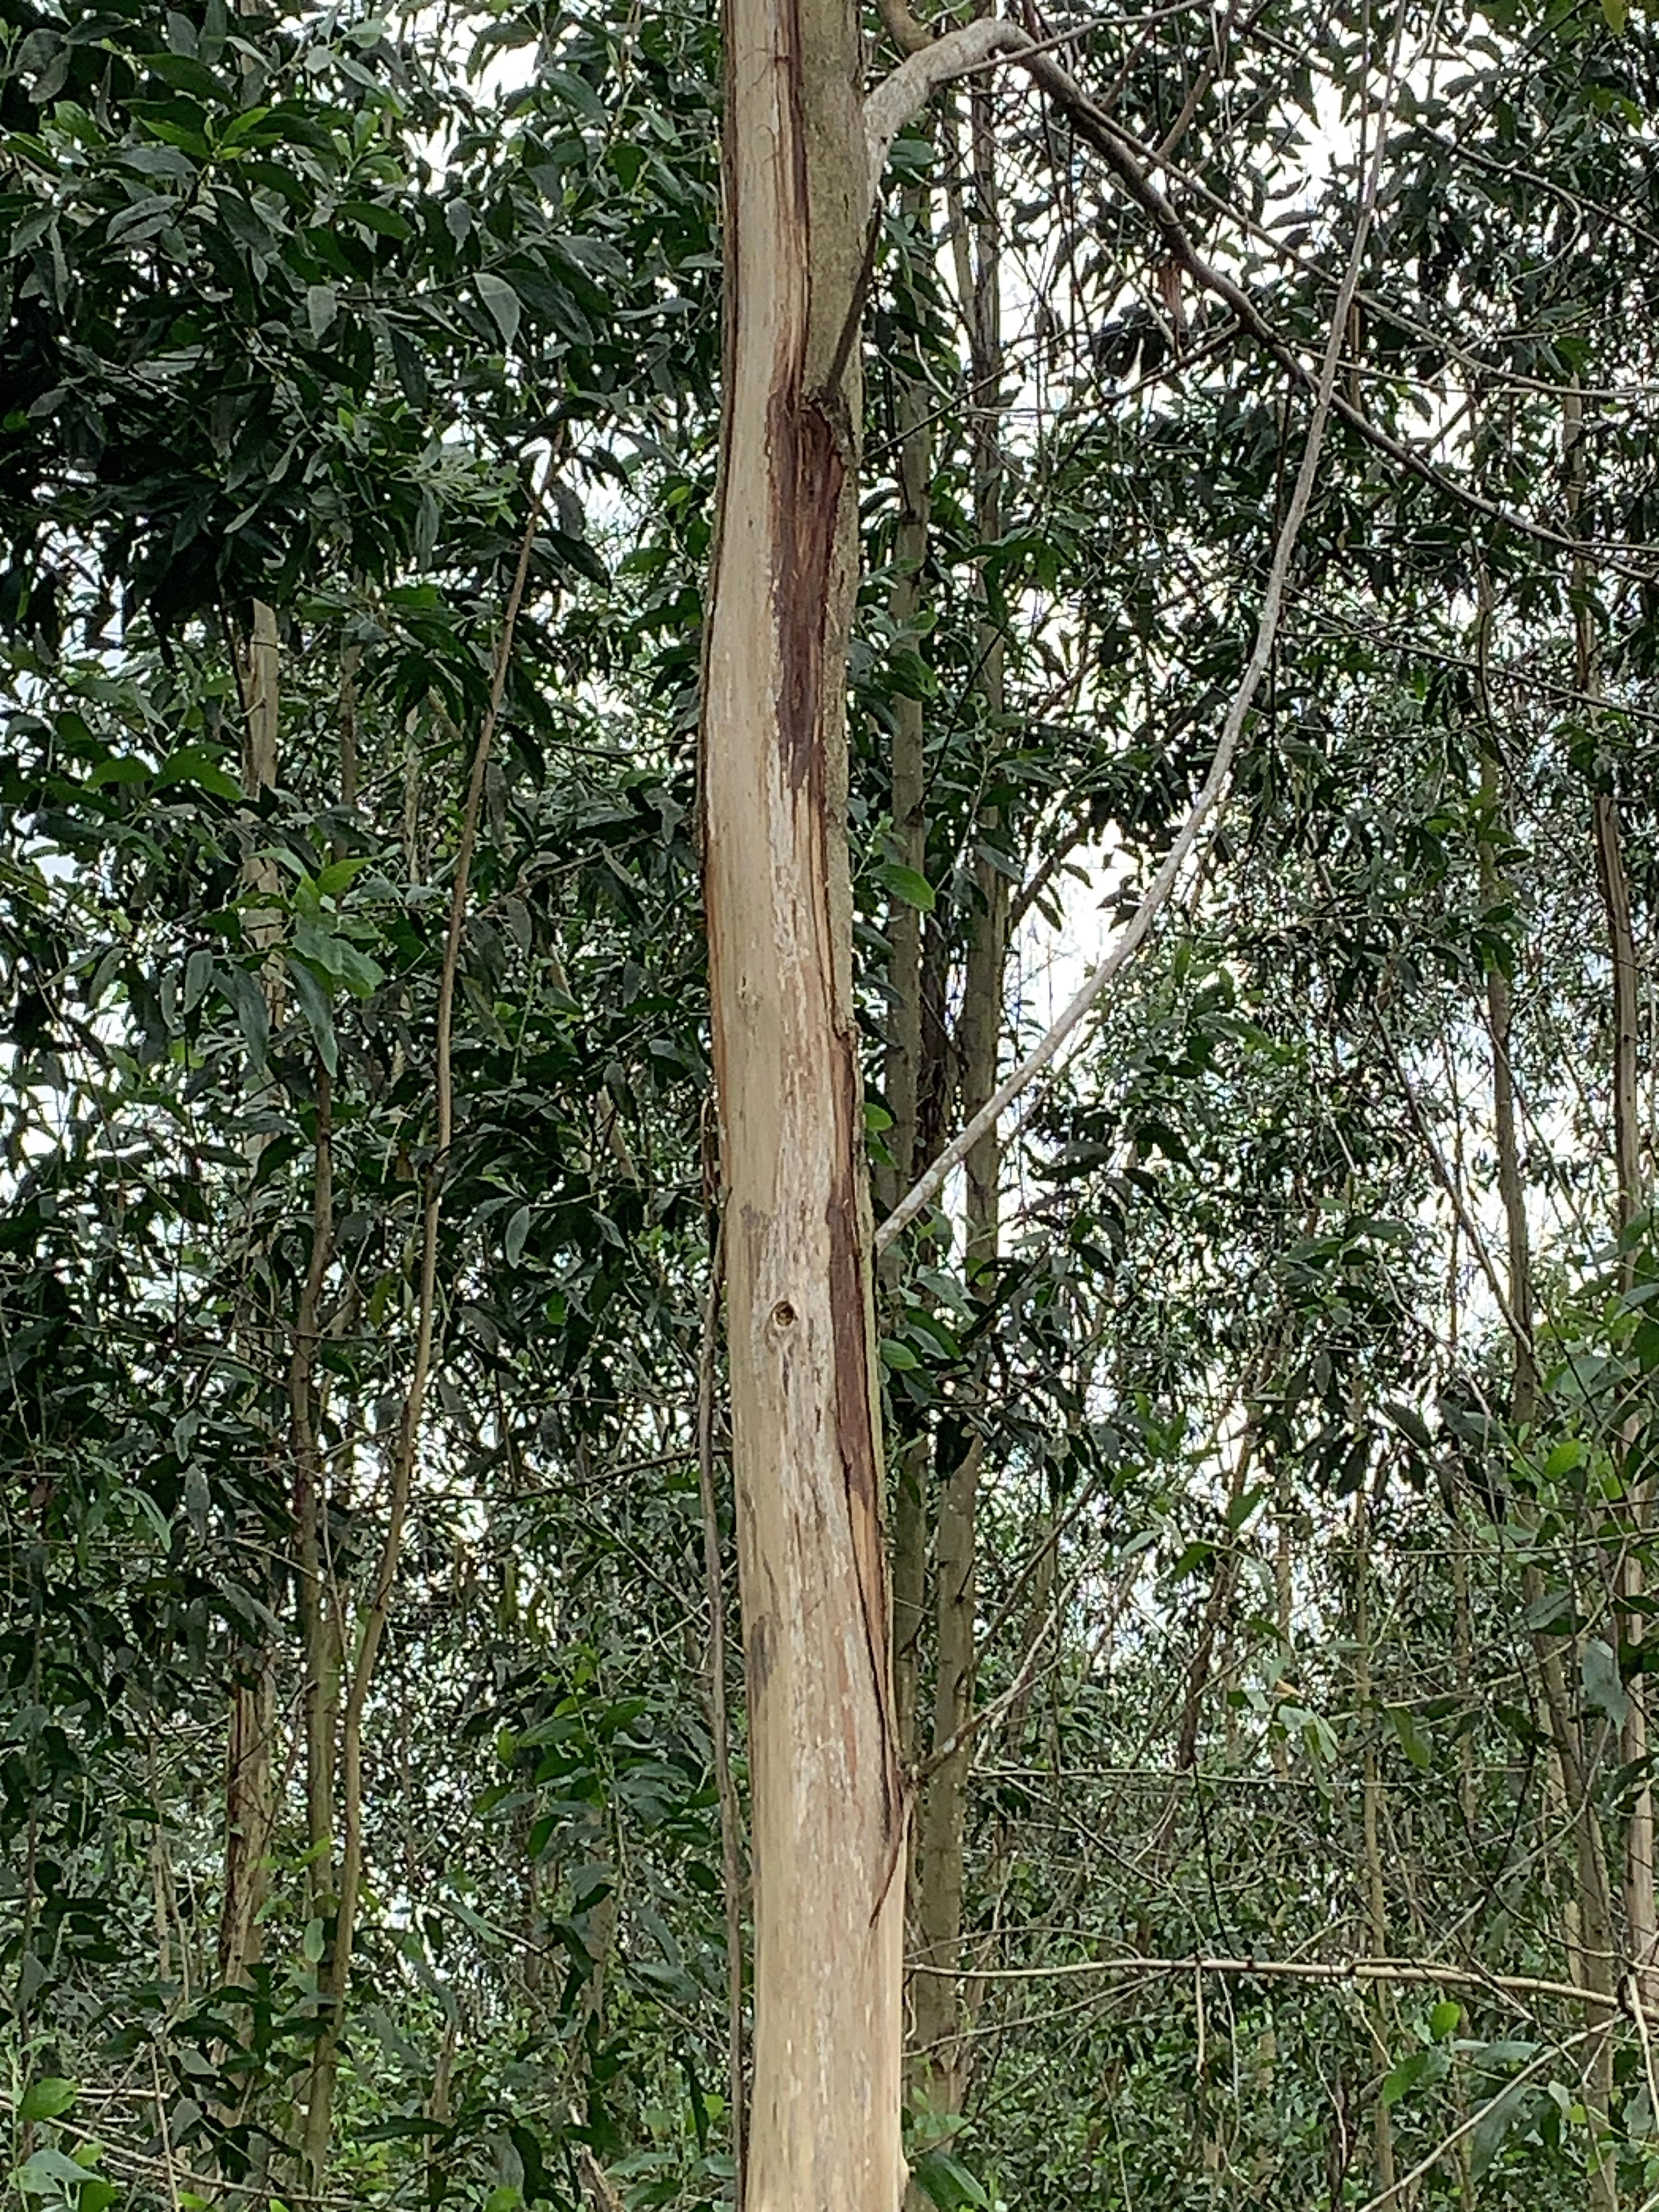Mammals Attack: (723, 0, 915, 2212)
